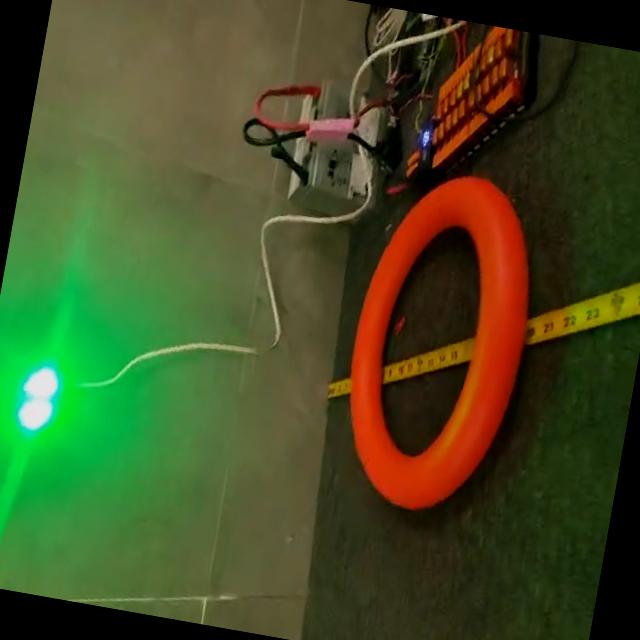note: (324, 158, 556, 526)
